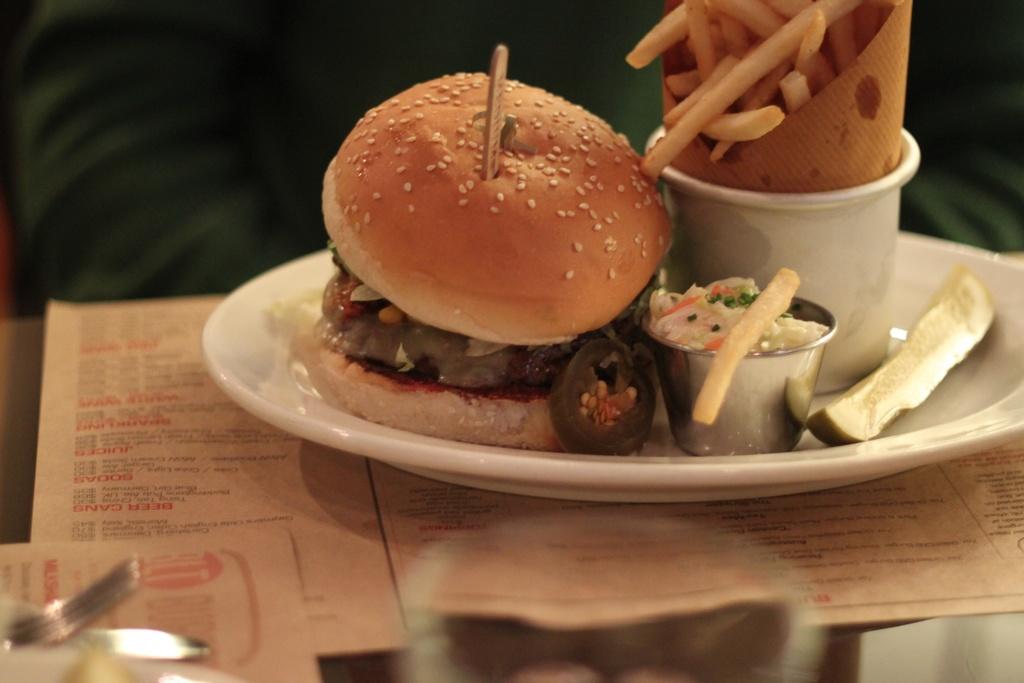Hamburger: (284, 73, 675, 451)
